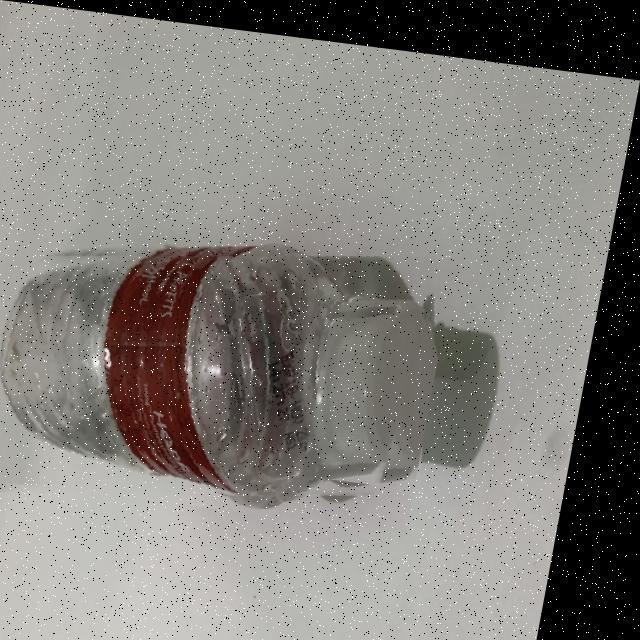litter: (0, 214, 462, 520), (318, 291, 440, 476)
